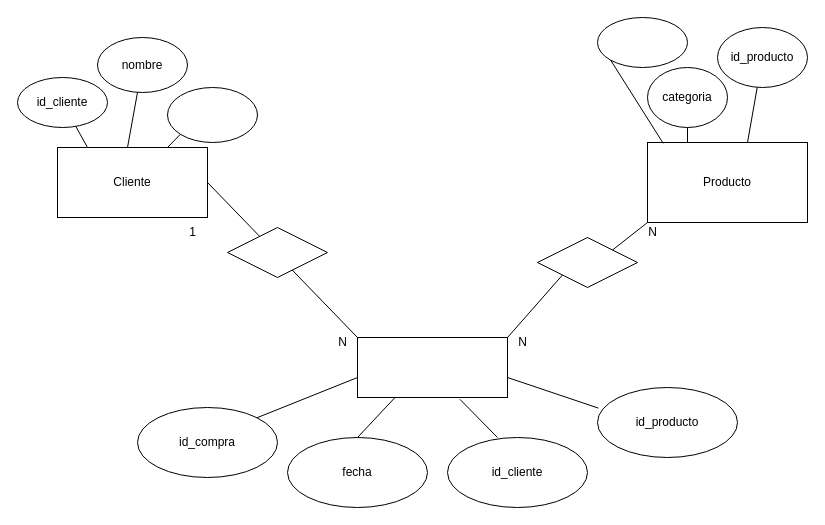
Image size: 825x525. Some labels were removed from this diagram. The centre of each missing label's shape, as x and y in pixels:
"contiene" goes at point (587, 262).
"edad" goes at point (212, 114).
"Ordenes" goes at point (432, 367).
"precio" goes at point (642, 42).
"realiza" goes at point (277, 252).
